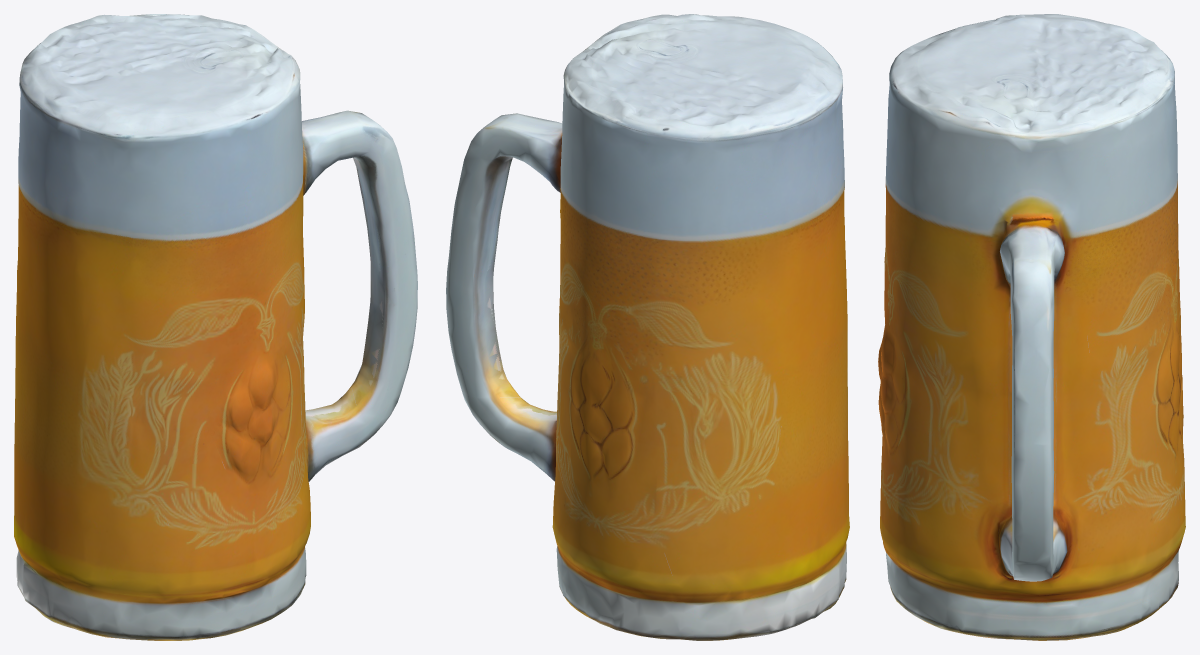
File: beer.glb
3 views of the same model, side by side, from view 1: azimuth 30°, elevation 25°; view 2: azimuth 150°, elevation 25°; view 3: azimuth 270°, elevation 25° (orthographic).
Bounding box in the file's own units: 1.49 × 1.98 × 1.06.
1 material, 1 textured.
